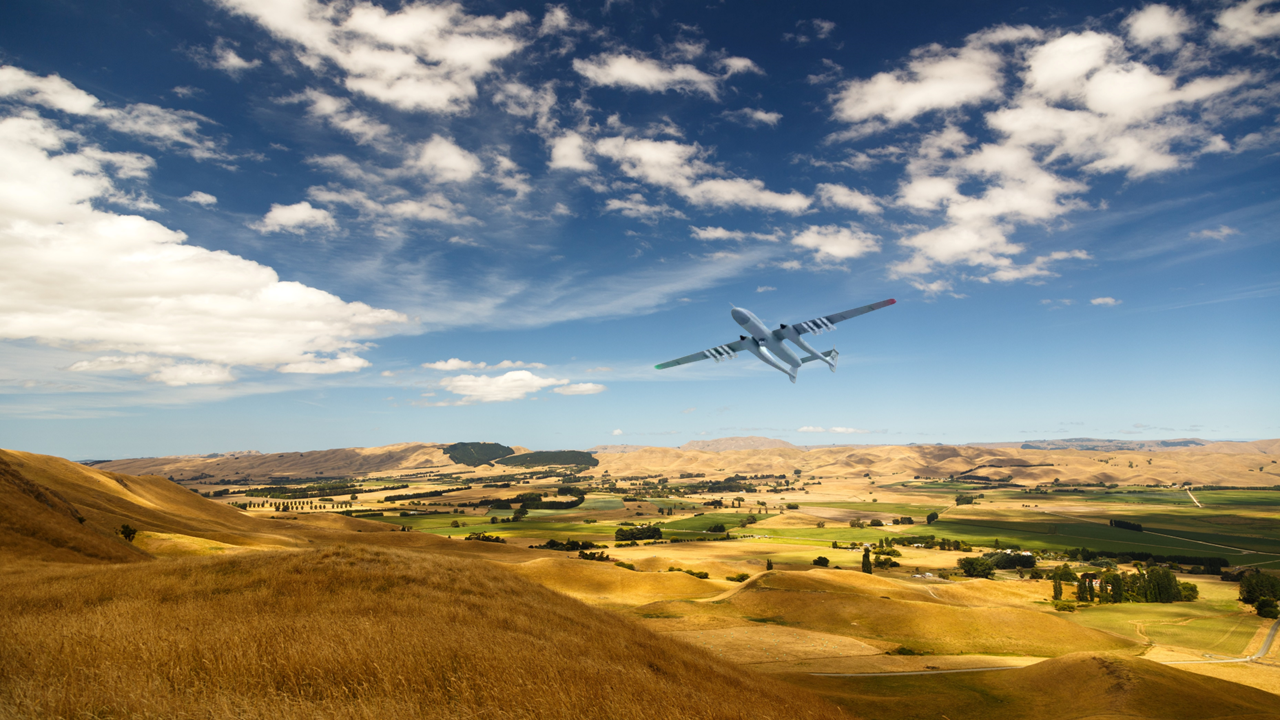military drone: (654, 297, 896, 384)
